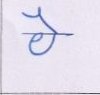au_matra: (27, 8, 60, 40)
